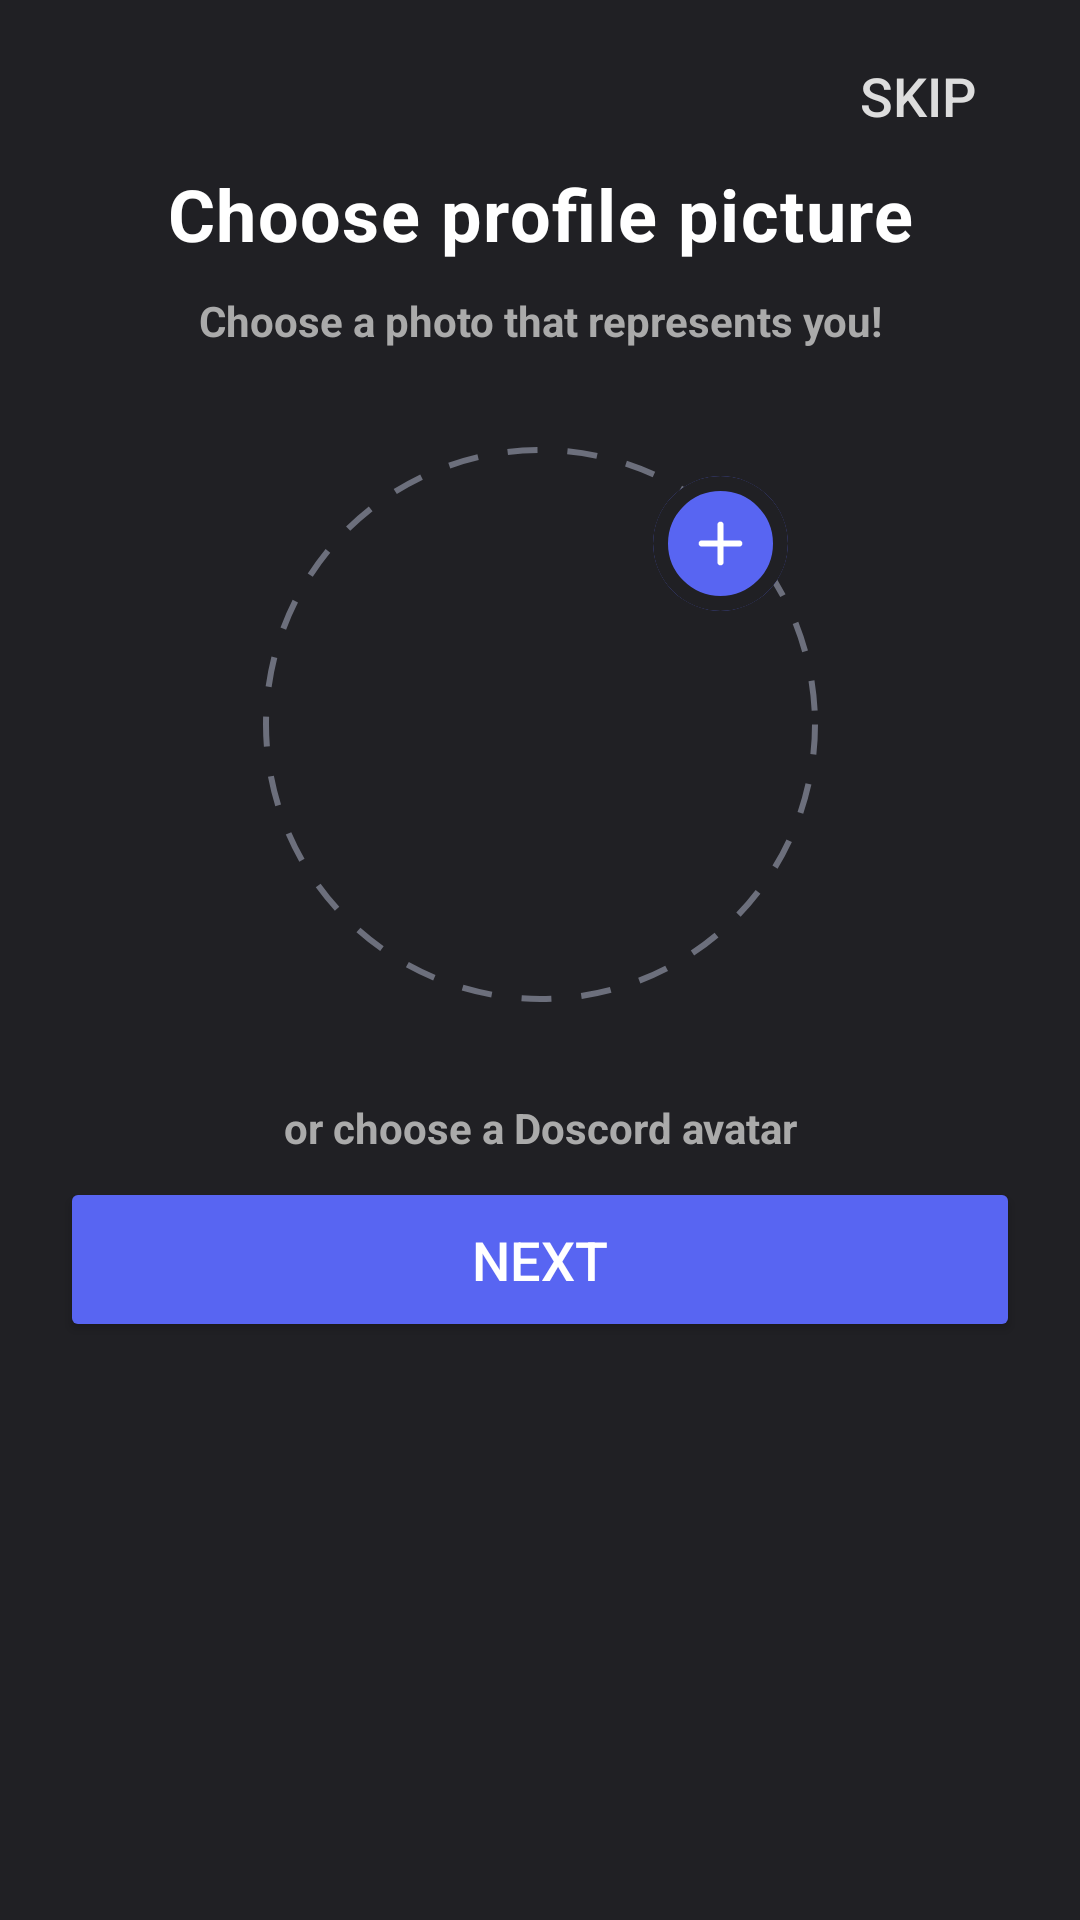

Icons on this 1080px x 1920px Android screen, each with the point to tap as [x,y]:
Add: [720,543]
